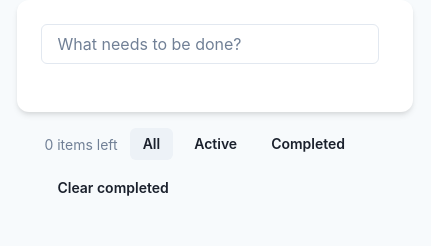
Test case: App integration › добавляет новую задачу
Type "Learn testing" into the field with placeholder "What needs to be done?" at (210, 44), box [41,24,379,64]
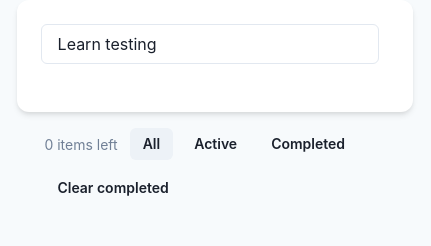
Press Enter in the field with placeholder "What needs to be done?", box [41,24,379,64]
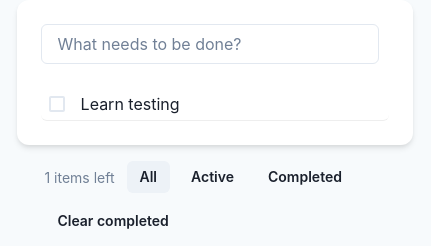
Expected: the text "Learn testing" is shown, [81,92,180,116]
